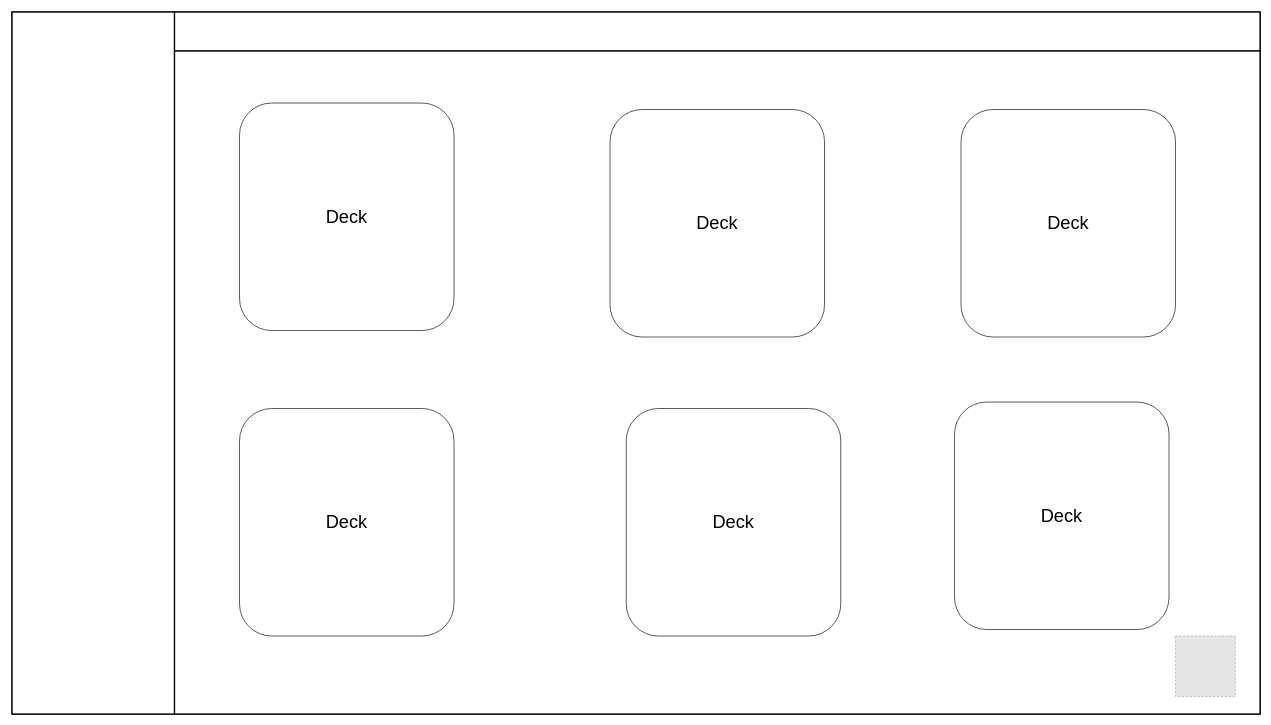
Some shapes in this 1271 by 725 pixel diagram are drawn without their labels. Grey dashed boxes stand in for pictures. Each missing label, with the box of its shape:
Header: (174, 11, 1260, 51)
Sidebar: (11, 11, 175, 714)
